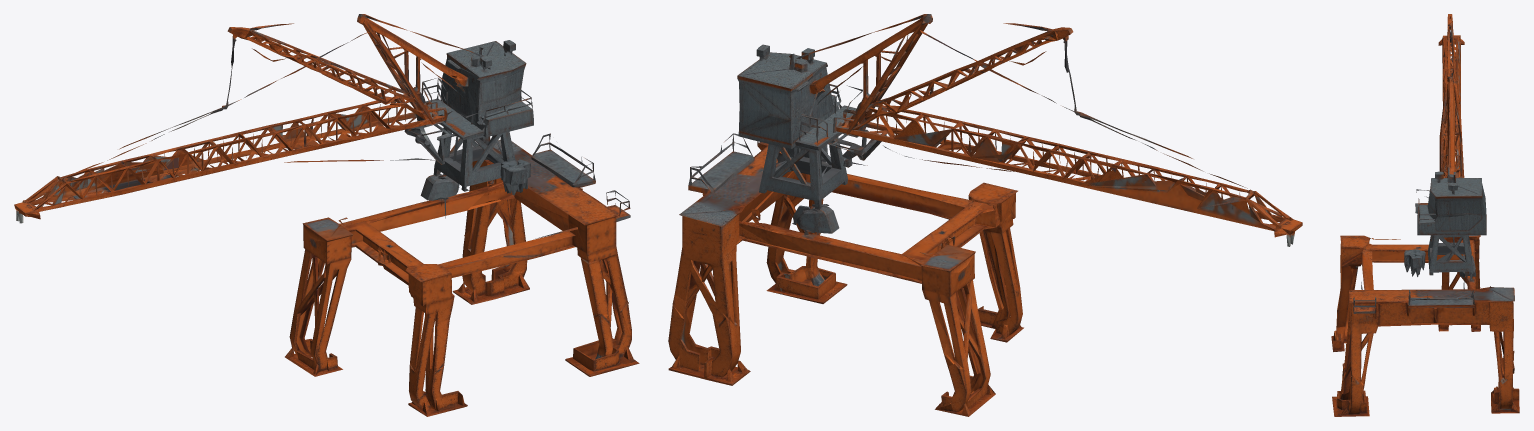
Rendered from crane.glb.
3 renders of one model, left to right at view 1: azimuth 30°, elevation 25°; view 2: azimuth 150°, elevation 25°; view 3: azimuth 270°, elevation 25°, orthographic. The views are drawn at different scales.
Size of the model in its own units: 1.9 by 1.2 by 0.7376.
1 material, 1 textured.
